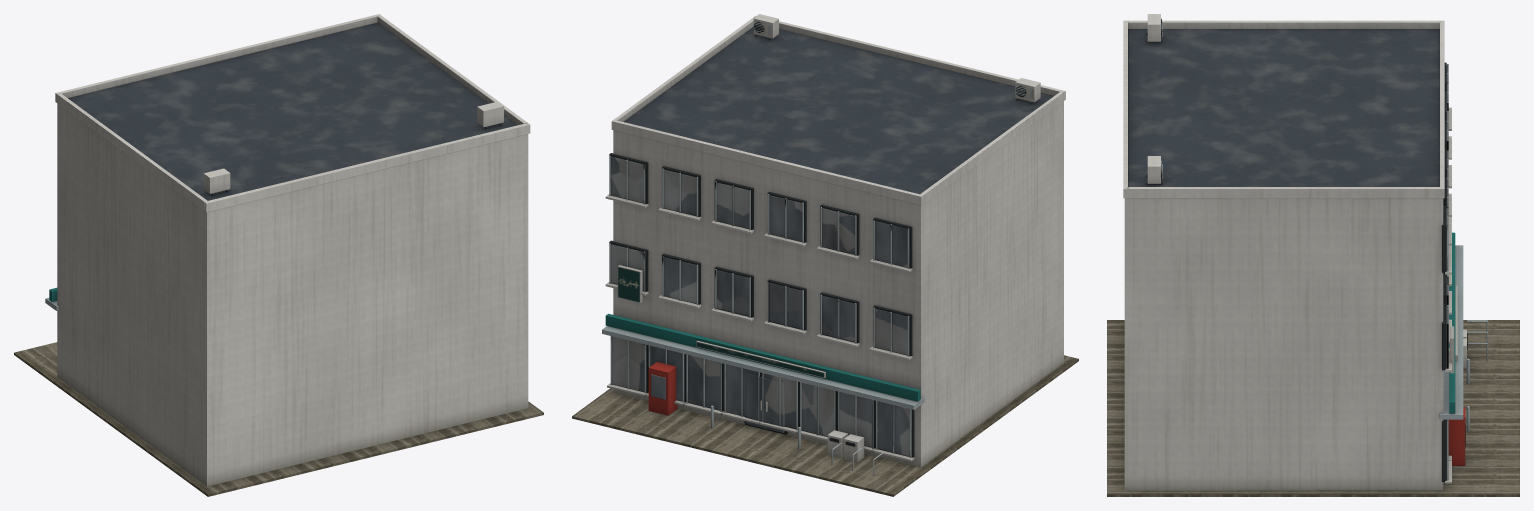
File: convenience_urban_001.obj
The picture shows the model from 3 angles, left to right: view 1: azimuth 30°, elevation 25°; view 2: azimuth 150°, elevation 25°; view 3: azimuth 270°, elevation 25°; orthographic projection. The views are drawn at different scales.
Visible parts, largest first — view 1: convenience_urban_001; view 2: convenience_urban_001; view 3: convenience_urban_001.
Part boxes in pixels (x1=…): convenience_urban_001: x1=14, y1=14, x2=543, y2=496; convenience_urban_001: x1=572, y1=14, x2=1078, y2=496; convenience_urban_001: x1=1107, y1=14, x2=1519, y2=496.
Bounding box in the file's own units: 14 × 11.95 × 14.
Materials: 1 (1 with a texture image).
